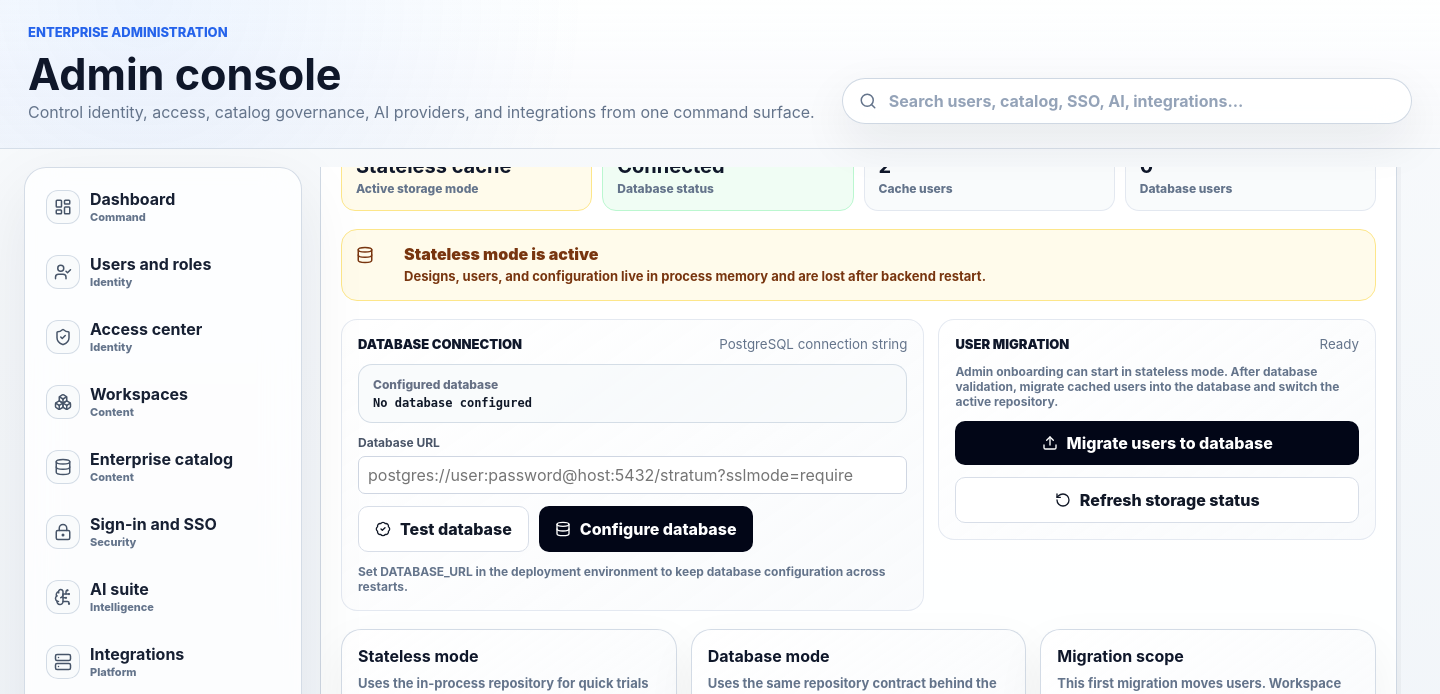
it: AdminConsole › validates storage configuration and confirms user migration
The width and height of the screenshot is (1440, 694).
(page scrolled)
Click the button "Test database".
click(443, 529)  # box [358,506,529,552]
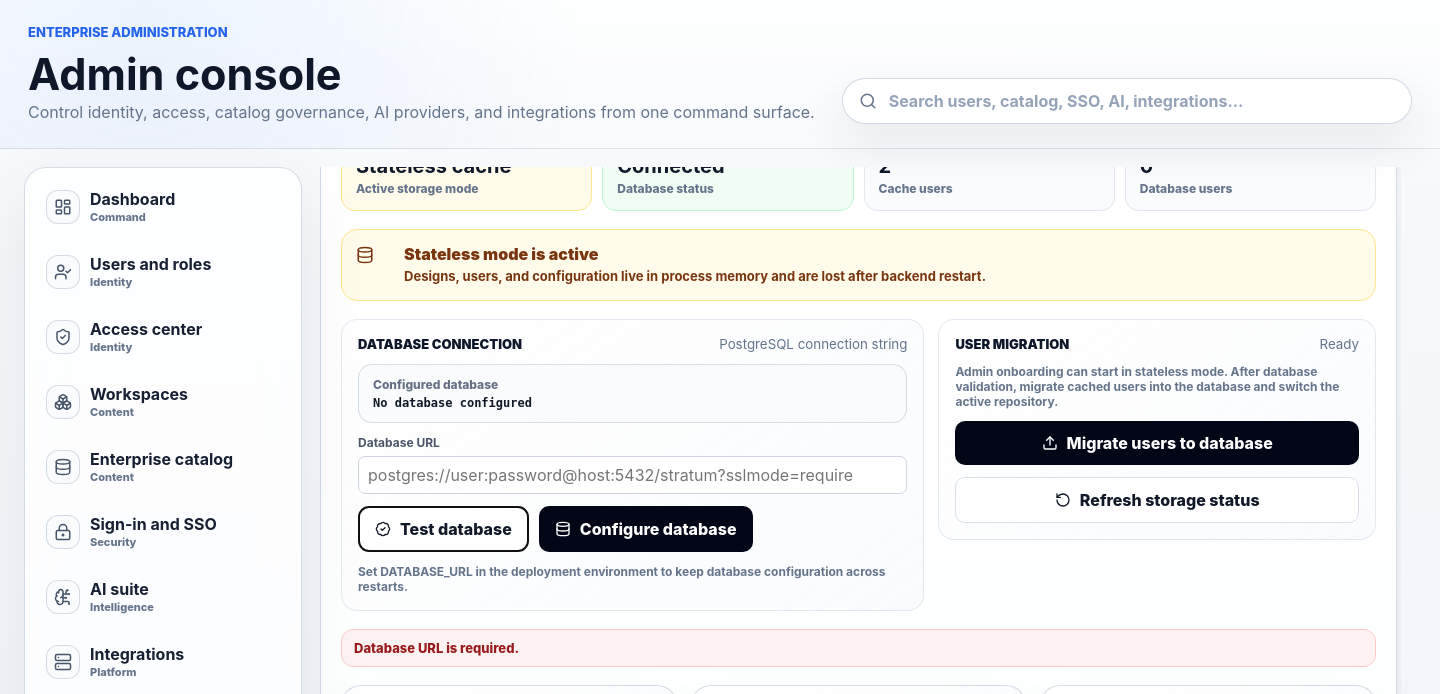
Expected: the text "Database URL is required." is shown, [341,629,1376,667]
Type "postgres://db.example.com/stratum" into the password field labelled "Database URL".
click(633, 475); type("postgres://db.example.com/stratum")  # box [358,456,907,494]
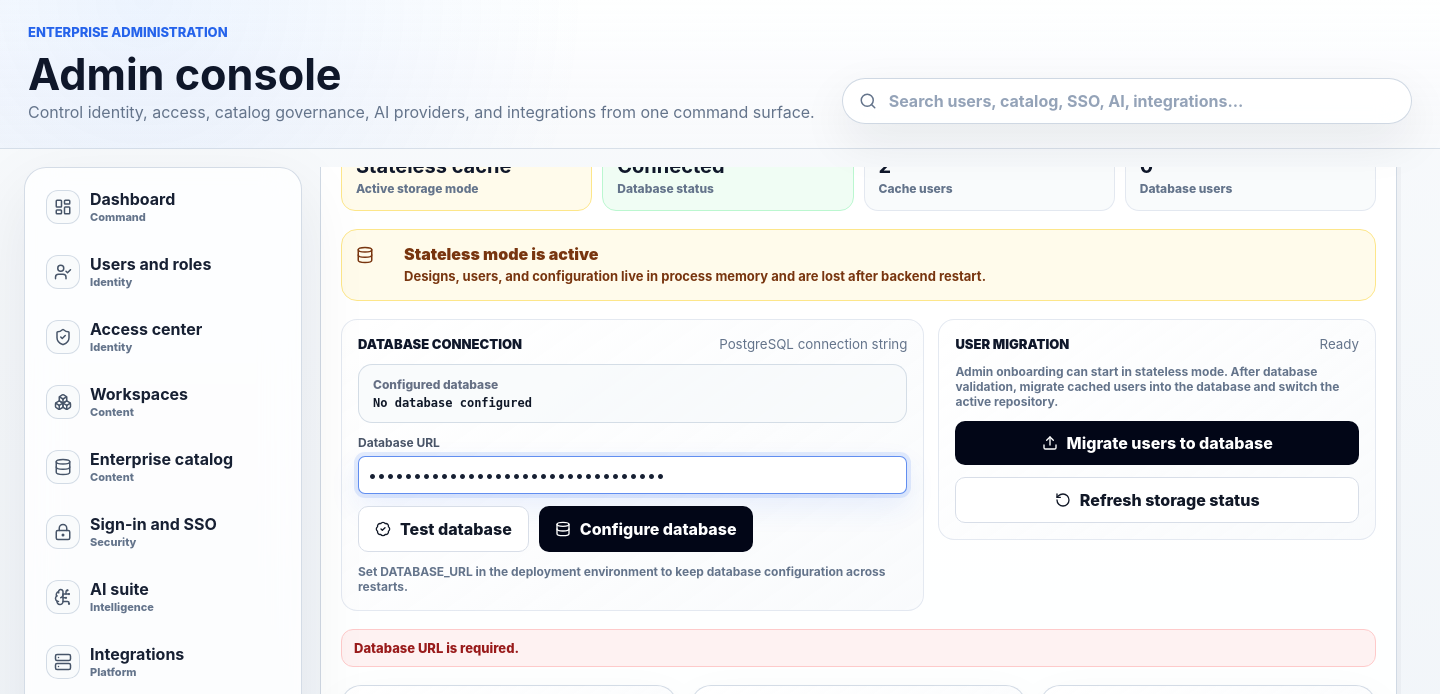
Click the button "Test database".
click(443, 529)  # box [358,506,529,552]
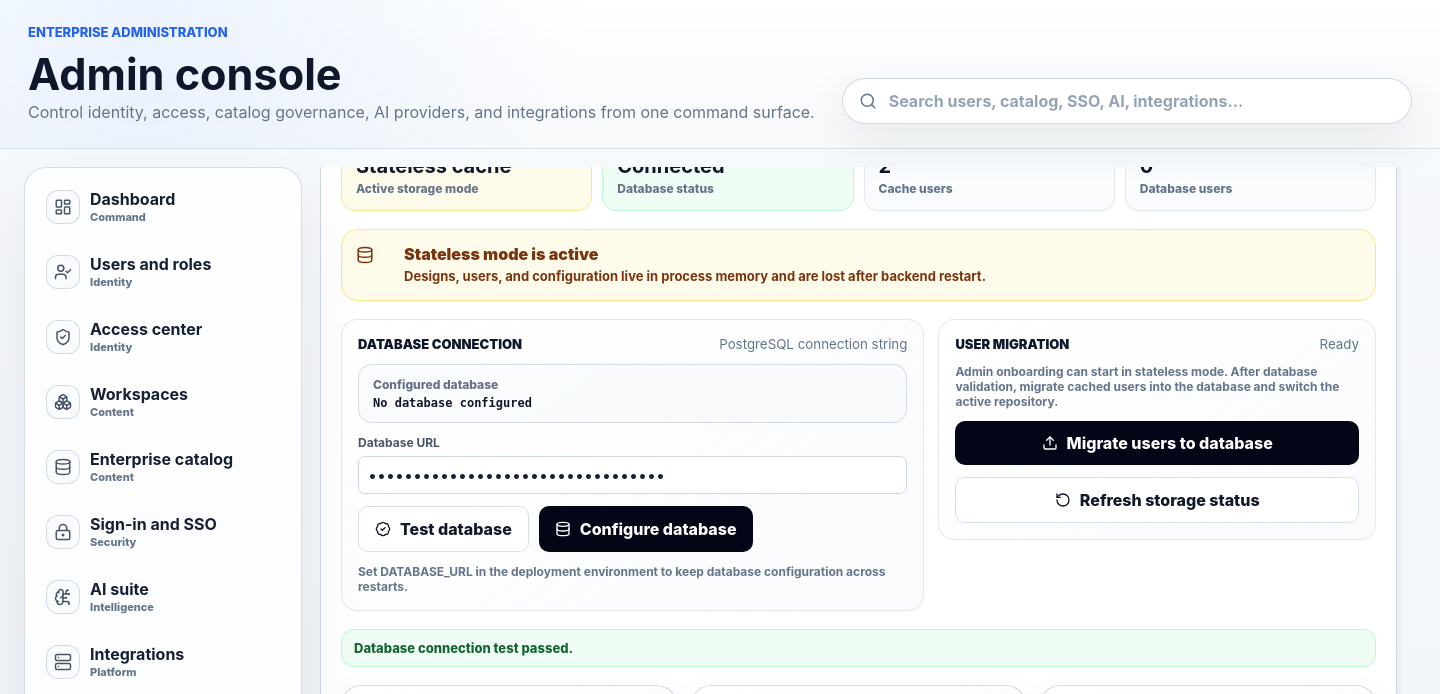
Expected: the text "Database connection test passed." is shown, [341,629,1376,667]
Click the button "Migrate users to database".
click(1157, 443)  # box [955,421,1359,465]
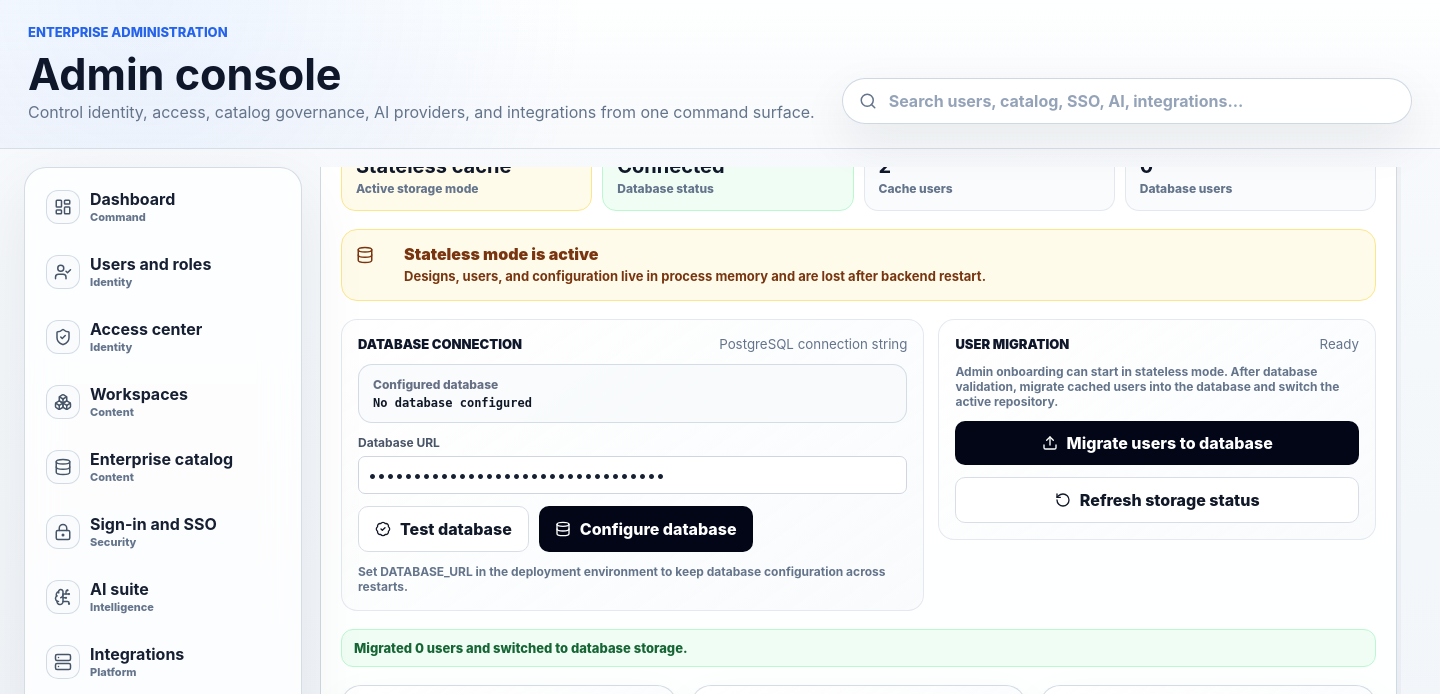
Expected: the text "Migrated 0 users and switched to database storage." is shown, [341,629,1376,667]
